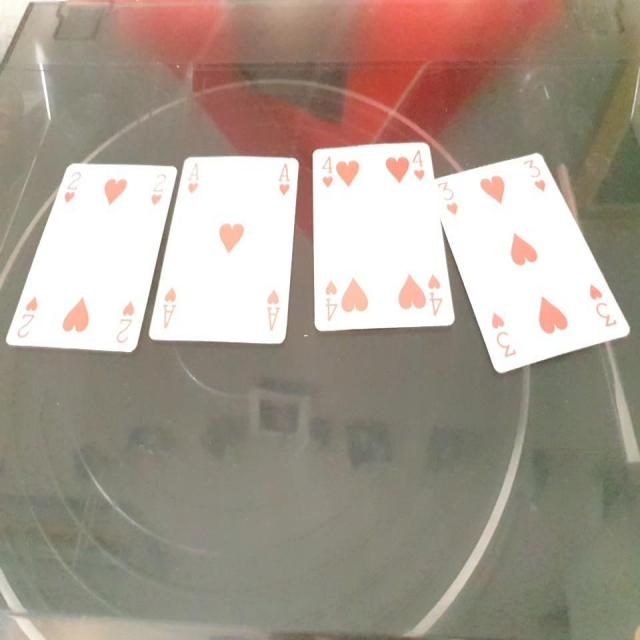2 Hearts: (1, 153, 180, 374)
3 Hearts: (430, 138, 636, 388)
4 Hearts: (308, 134, 456, 342)
A Hearts: (143, 146, 306, 357)
